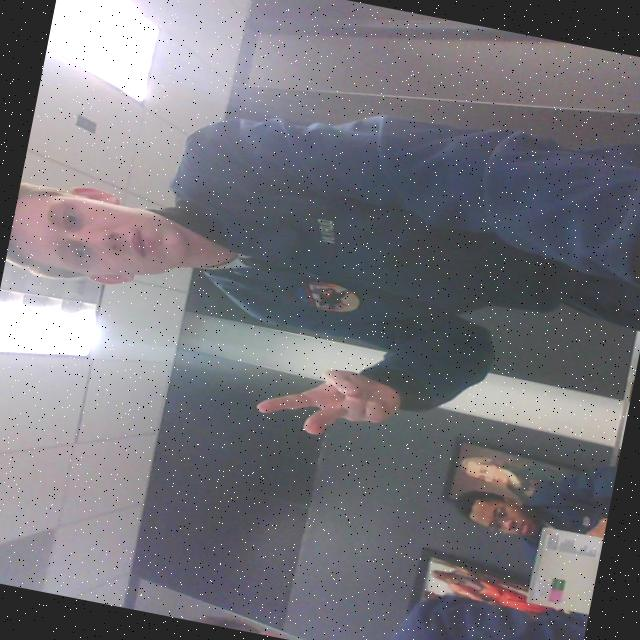scissors: (250, 346, 410, 452)
